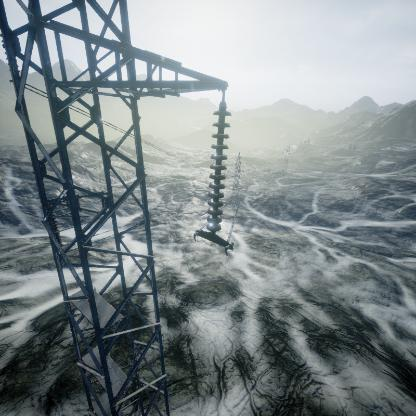insulator: (206, 101, 233, 233)
